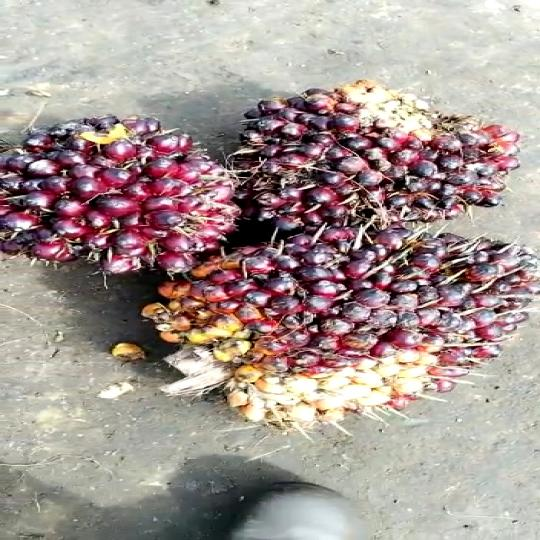kurang masak: (103, 235, 540, 448), (225, 77, 540, 250), (0, 100, 262, 288)
